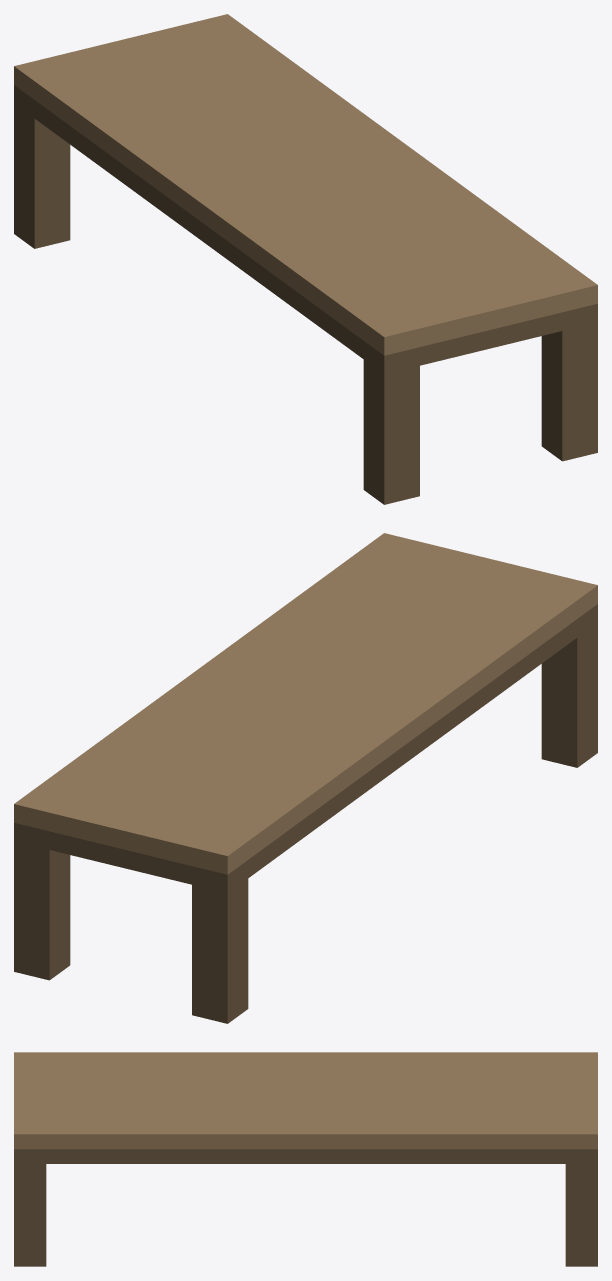
The model's file is mostrador_roble_01.glb.
The picture shows the model from 3 angles, top to bottom: view 1: azimuth 30°, elevation 25°; view 2: azimuth 150°, elevation 25°; view 3: azimuth 270°, elevation 25°; orthographic projection. The views are drawn at different scales.
Parts seen in each view (by area): view 1: mostrador_roble; view 2: mostrador_roble; view 3: mostrador_roble.
Boxes of the visible parts, bbox=[...] form: mostrador_roble: bbox=[14, 14, 597, 504]; mostrador_roble: bbox=[14, 533, 597, 1023]; mostrador_roble: bbox=[14, 1052, 597, 1266].
Size of the model in its own units: 1 by 0.75 by 3.
